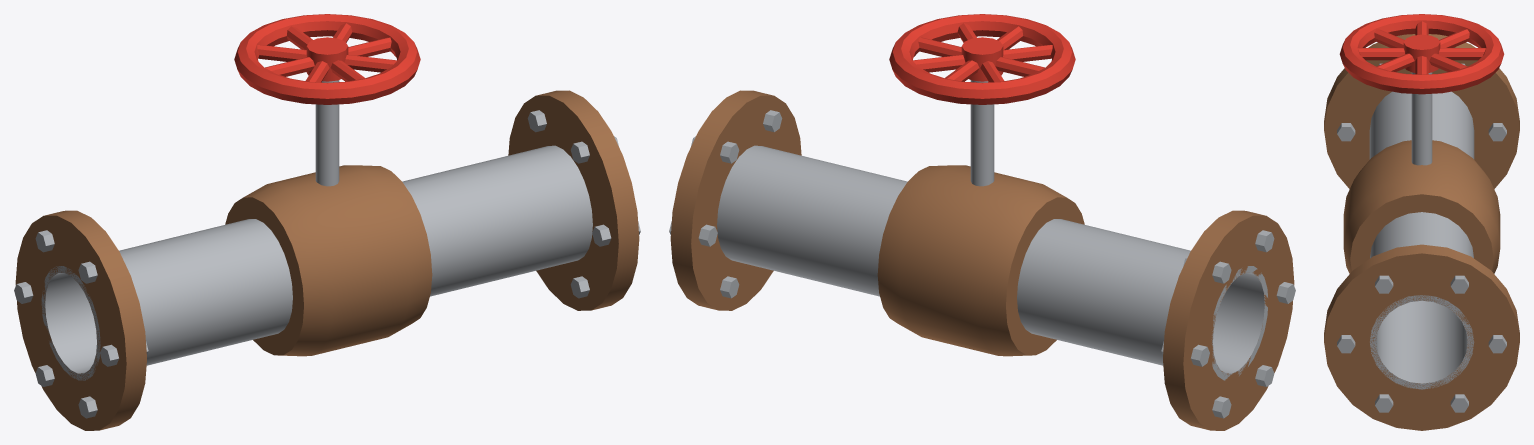
The model's file is SM_RepairPipe.fbx.
3 renders of one model, left to right at view 1: azimuth 30°, elevation 25°; view 2: azimuth 150°, elevation 25°; view 3: azimuth 270°, elevation 25°, orthographic. The views are drawn at different scales.
Parts seen in each view (by area): view 1: SM_RepairPipe; view 2: SM_RepairPipe; view 3: SM_RepairPipe.
Part boxes in pixels (left/top/right/bottom): SM_RepairPipe: left=14, top=14, right=640, bottom=430; SM_RepairPipe: left=669, top=14, right=1295, bottom=430; SM_RepairPipe: left=1324, top=14, right=1519, bottom=430.
Bounding box in the file's own units: 0.414 × 0.235 × 0.15.
